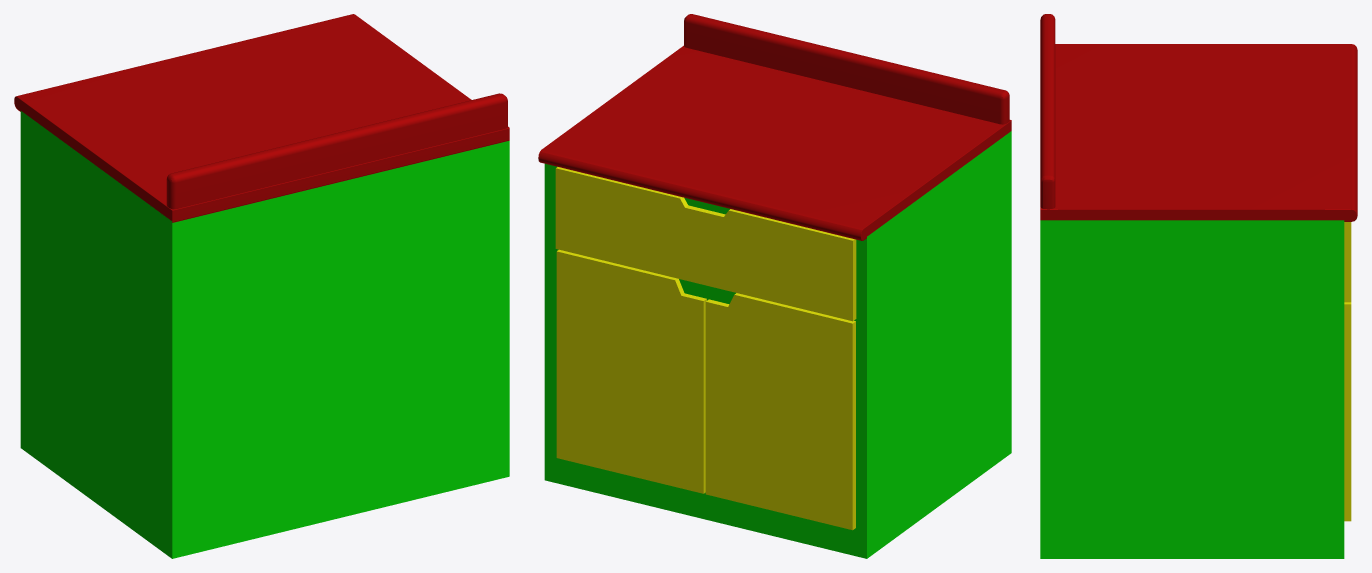
The model's file is K_Mueble_Cocina_Refri.fbx.
3 views of the same model, side by side, from view 1: azimuth 30°, elevation 25°; view 2: azimuth 150°, elevation 25°; view 3: azimuth 270°, elevation 25° (orthographic). The views are drawn at different scales.
Visible parts, largest first — view 1: K_WoodBlock_01; view 2: K_WoodBlock_01; view 3: K_WoodBlock_01.
Boxes of the visible parts, x1,y1,x2,y2 form: K_WoodBlock_01: [14, 14, 509, 558]; K_WoodBlock_01: [538, 14, 1011, 558]; K_WoodBlock_01: [1040, 14, 1357, 558].
Bounding box in the file's own units: 91.15 × 98.17 × 73.93.
